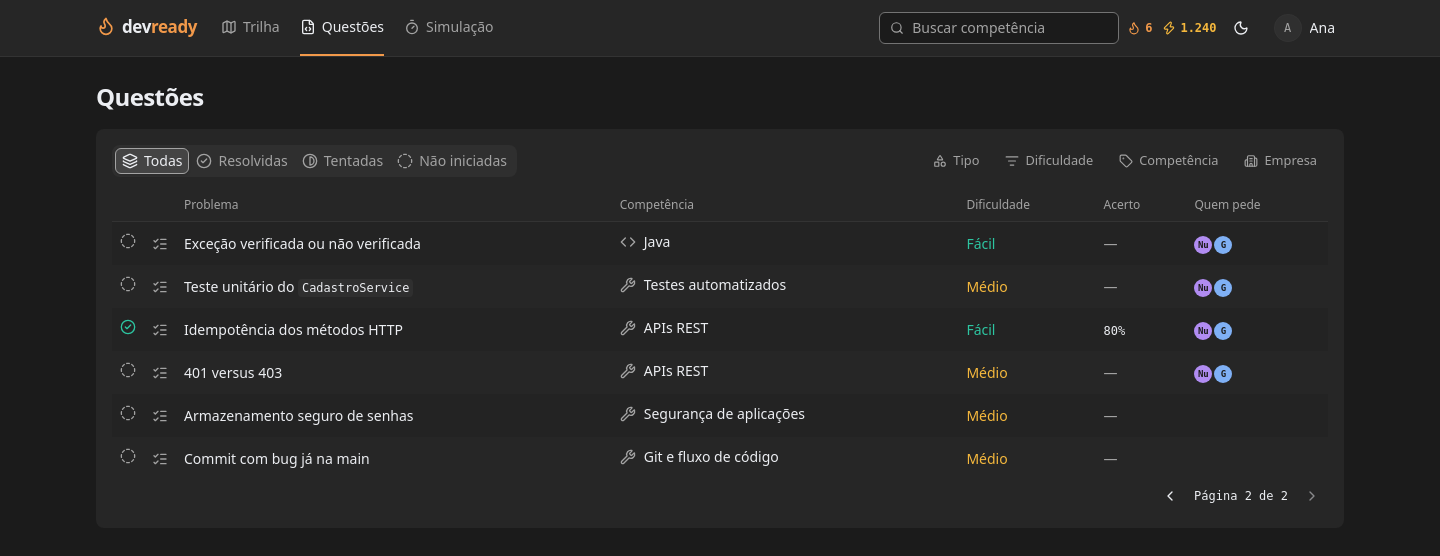
Test case: QuestionsPage › o filtro de dificuldade Fácil deixa só linhas fáceis e volta para a página 1
This screenshot has width=1440, height=556.
Check: the navigation bar named "Navegação principal" is shown, box [221, 0, 494, 56]
Check: the heading "Questões" is shown, box [96, 80, 204, 113]
Step 1. Click the button "Dificuldade" → click(1049, 161), box [994, 147, 1104, 175]
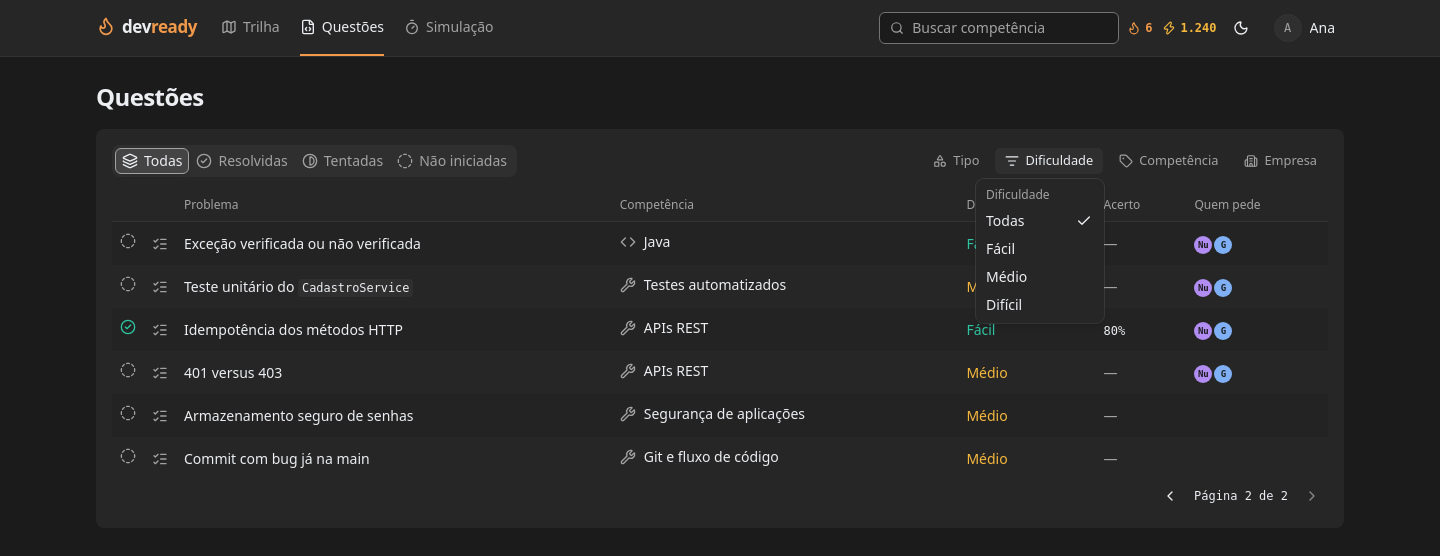
Step 2. Click the menu item "Fácil" → click(1001, 248), box [986, 239, 1015, 258]
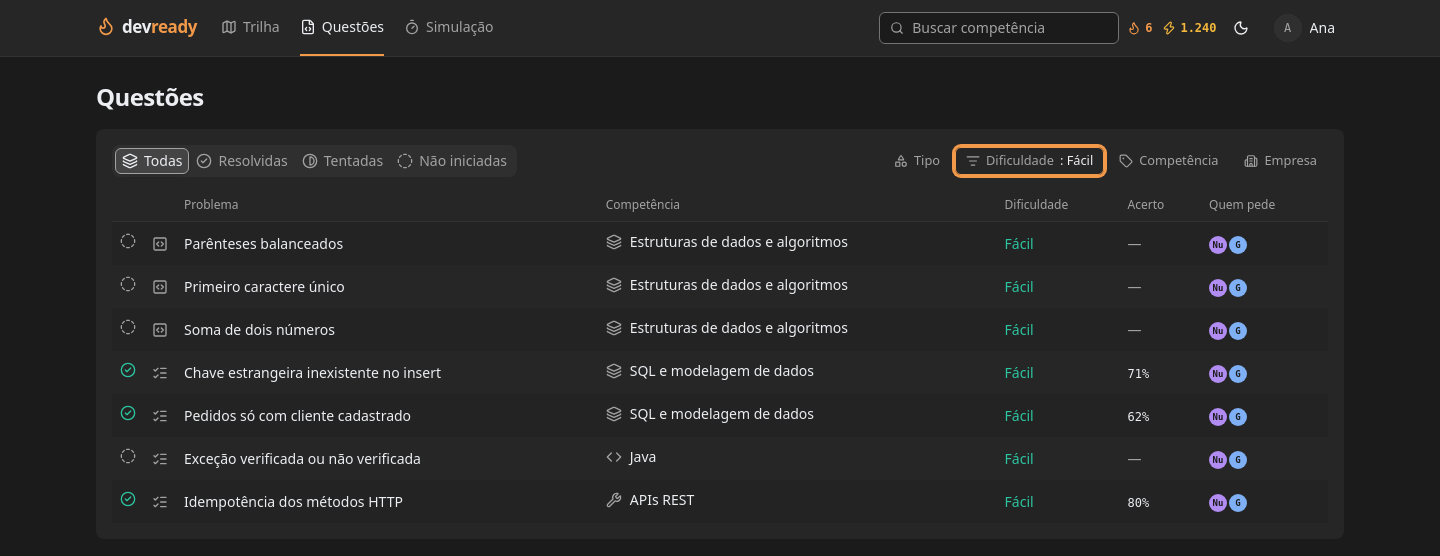
Check: the text "Fácil" in the row of "Parênteses balanceados" is shown, box [1005, 234, 1034, 252]
Check: the text "Fácil" in the row of "Primeiro caractere único" is shown, box [1005, 276, 1034, 296]
Check: the text "Fácil" in the row of "Soma de dois números" is shown, box [1005, 320, 1034, 338]
